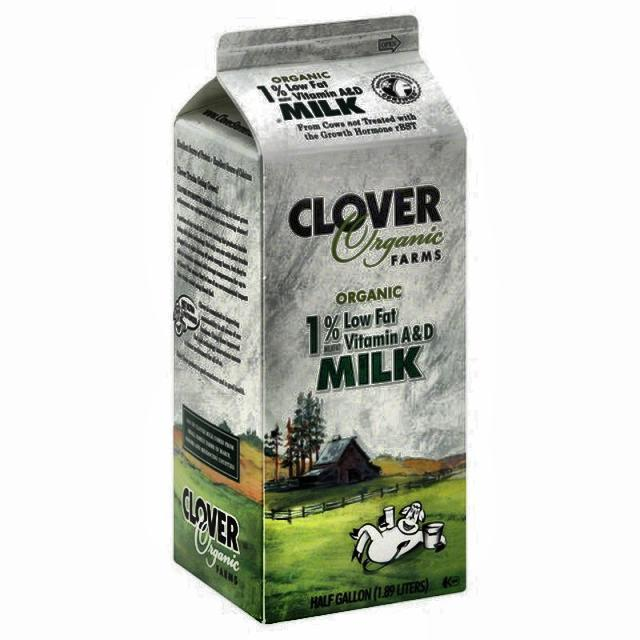cardboard: (171, 13, 468, 624)
